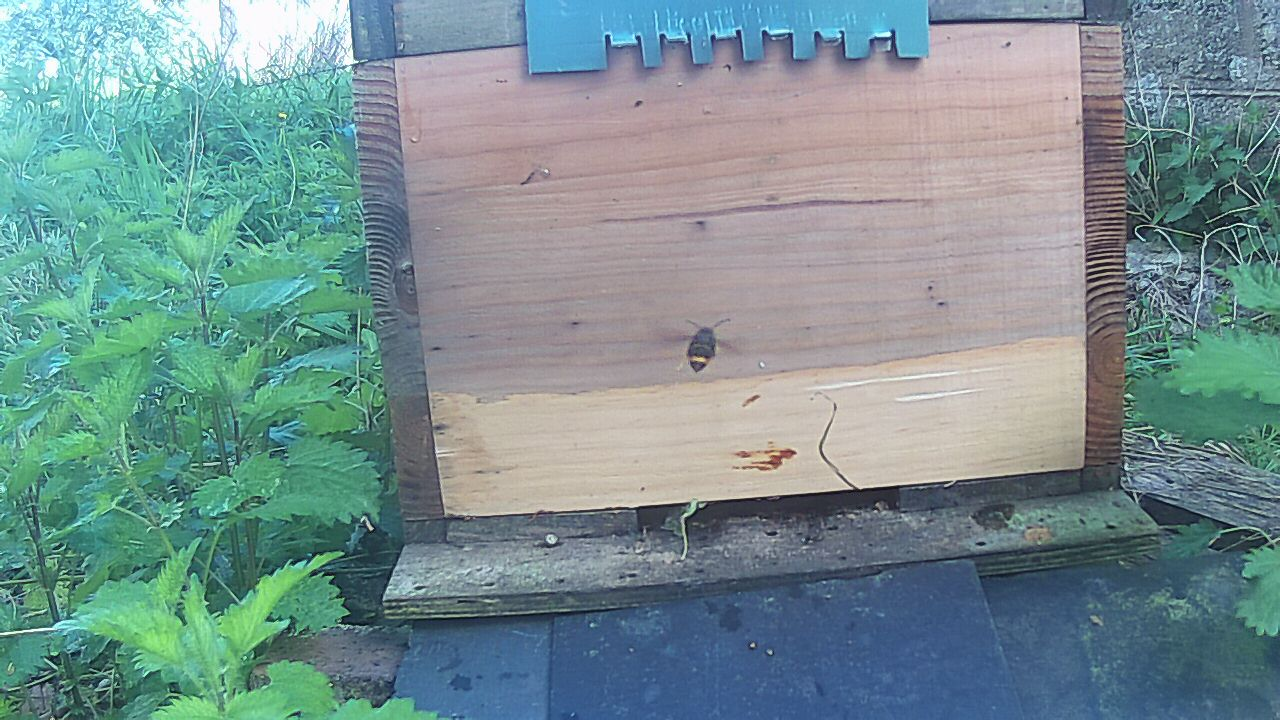bee: (684, 327, 721, 364)
hornet: (755, 436, 792, 469)
